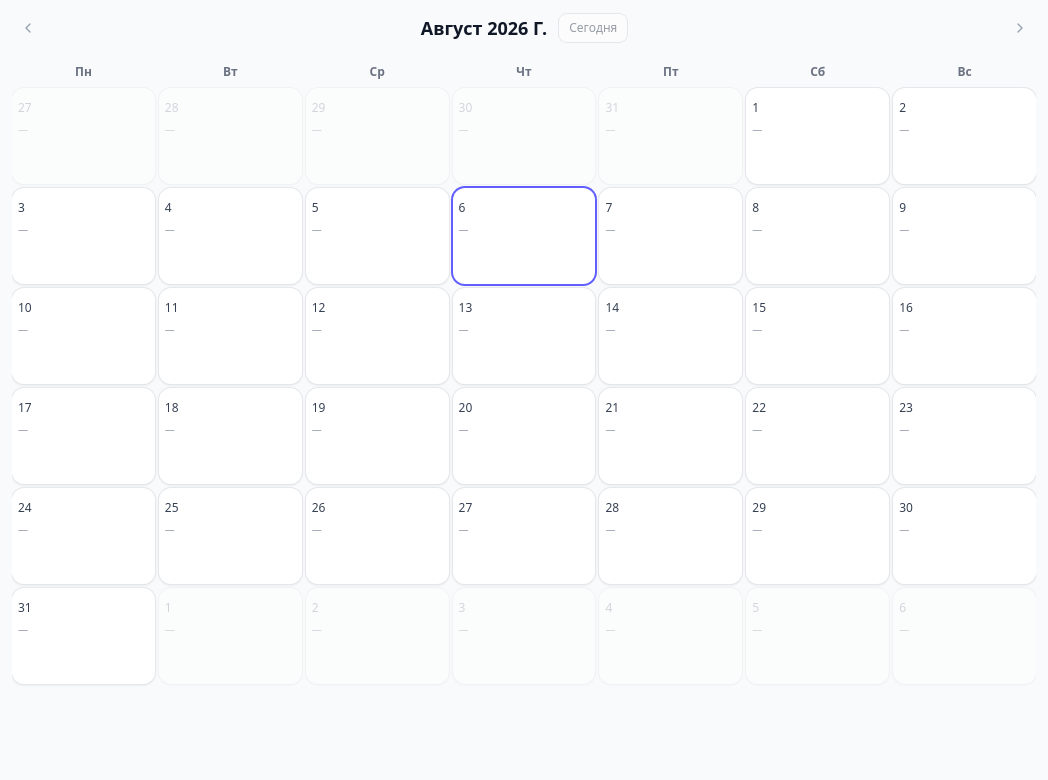
it: MonthView › paging with arrows changes the month title
Click the button named "Следующий месяц".
click(1020, 28)  # box [1004,12,1036,44]
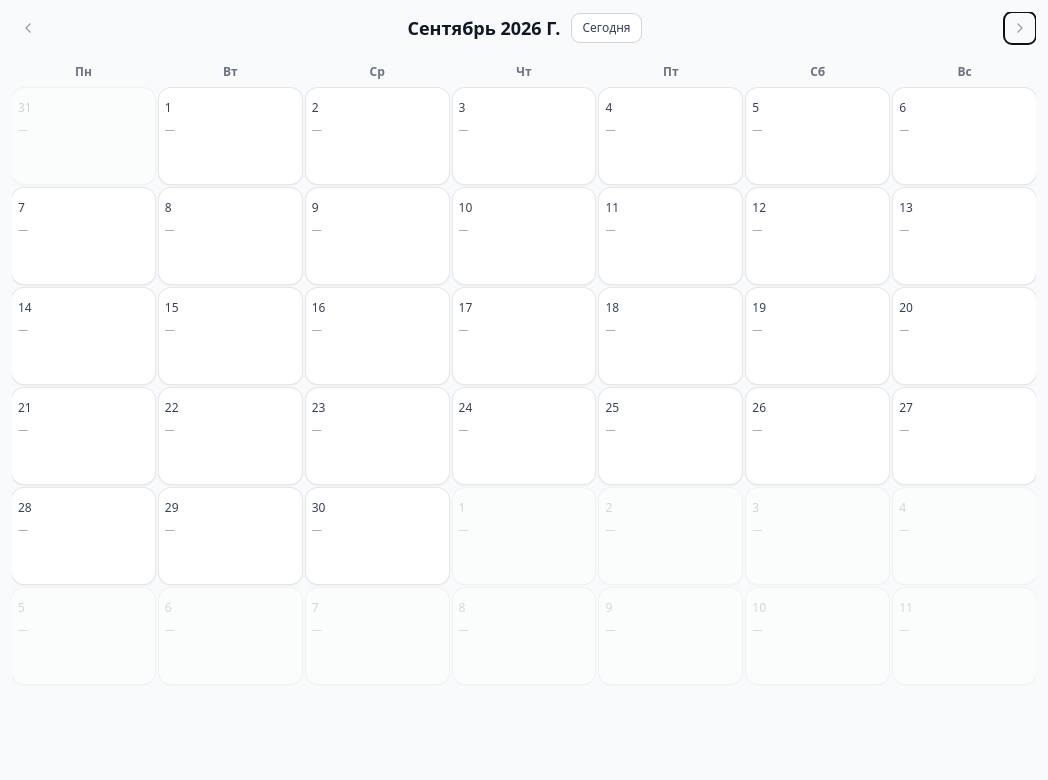
Now the heading "сентябрь 2026 г." is shown, box [408,14,560,42]
Click the button named "Предыдущий месяц".
click(28, 28)  # box [12,12,44,44]
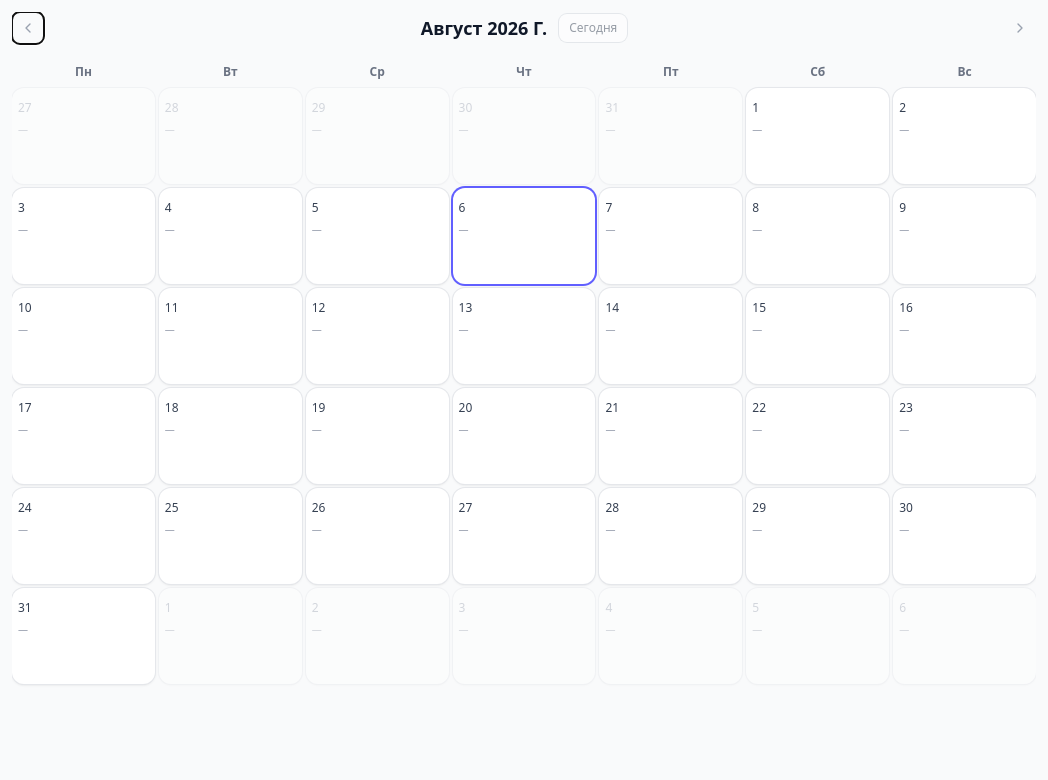
Click the button named "Предыдущий месяц".
click(28, 28)  # box [12,12,44,44]
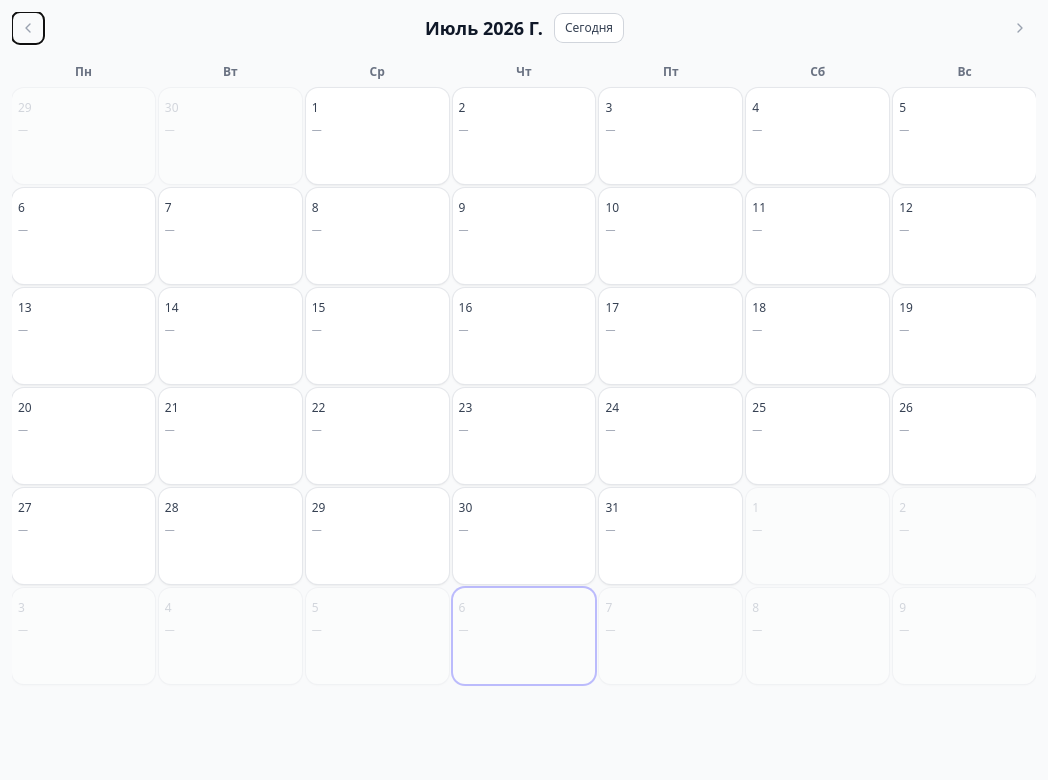
Now the heading "июль 2026 г." is shown, box [425,14,543,42]
